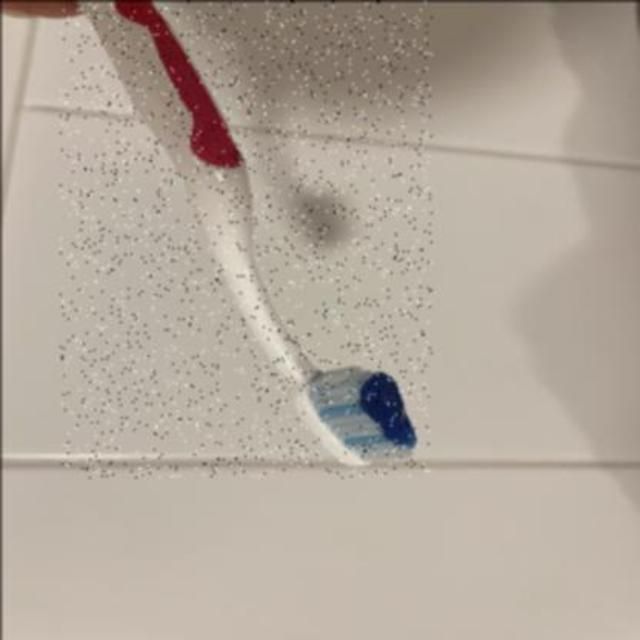toothbrush: (59, 0, 431, 476)
